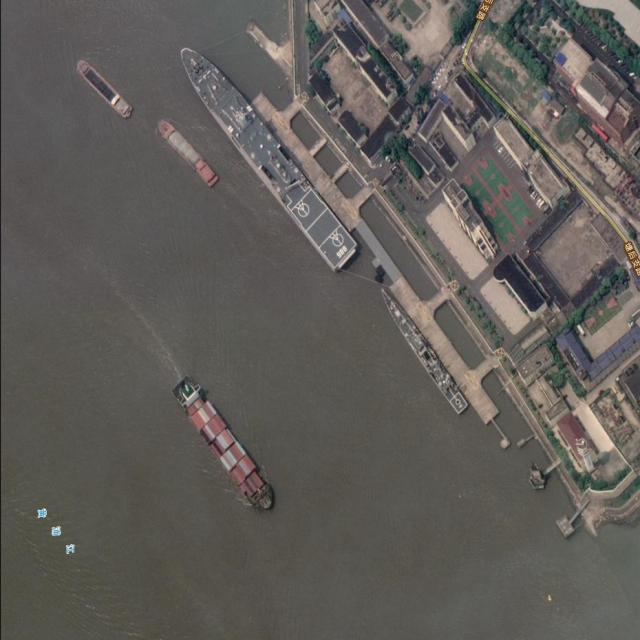Cargo: (153, 114, 223, 190), (71, 56, 137, 122)
Container Ship: (167, 374, 282, 517), (153, 115, 223, 189)
Frigate: (372, 285, 471, 416)
Landing: (164, 39, 364, 273)
